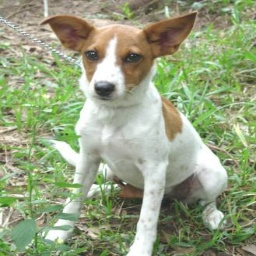dog: (47, 9, 230, 245)
